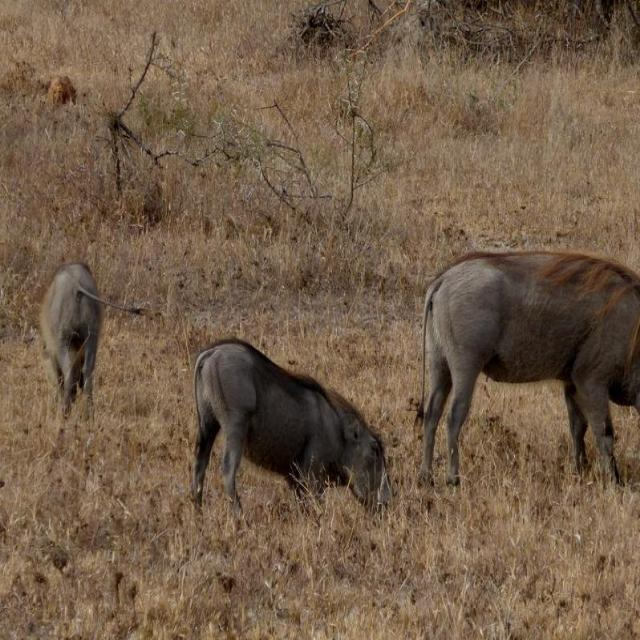pig: (418, 252, 640, 483), (191, 339, 391, 510), (40, 262, 102, 413)
